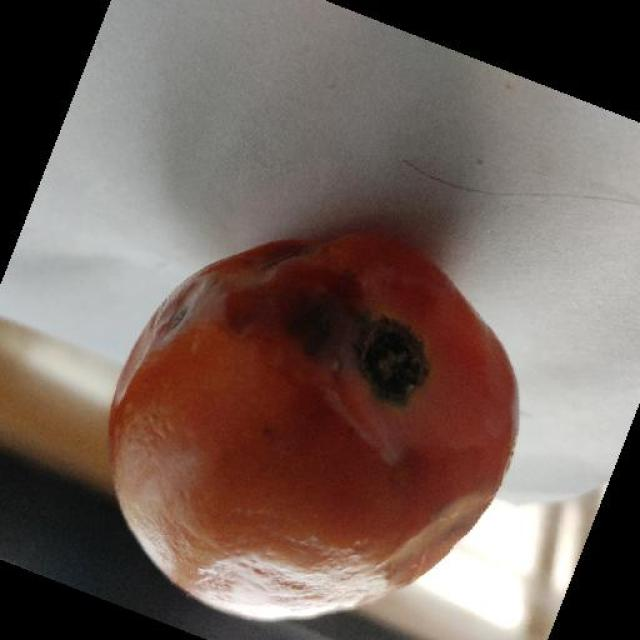Stale_tomato: (106, 200, 488, 604)
